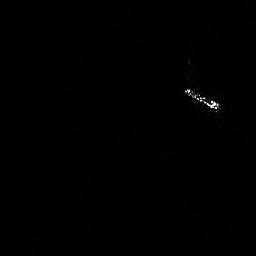ship: (181, 85, 222, 111)
